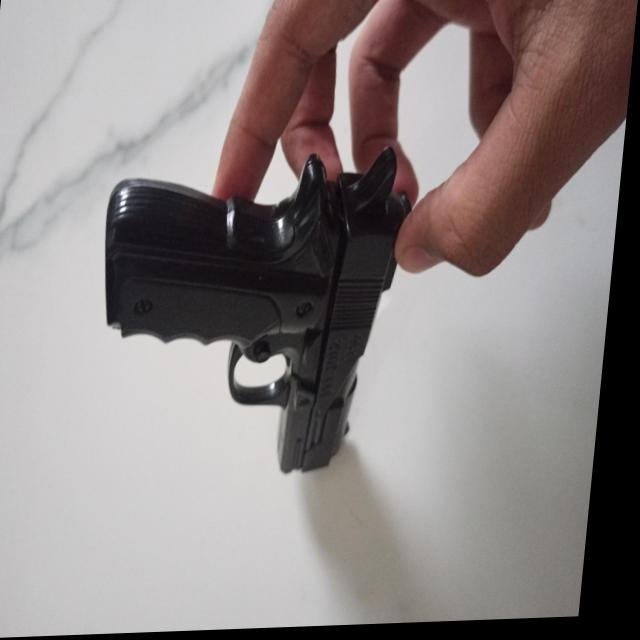handgun: (89, 147, 424, 486)
